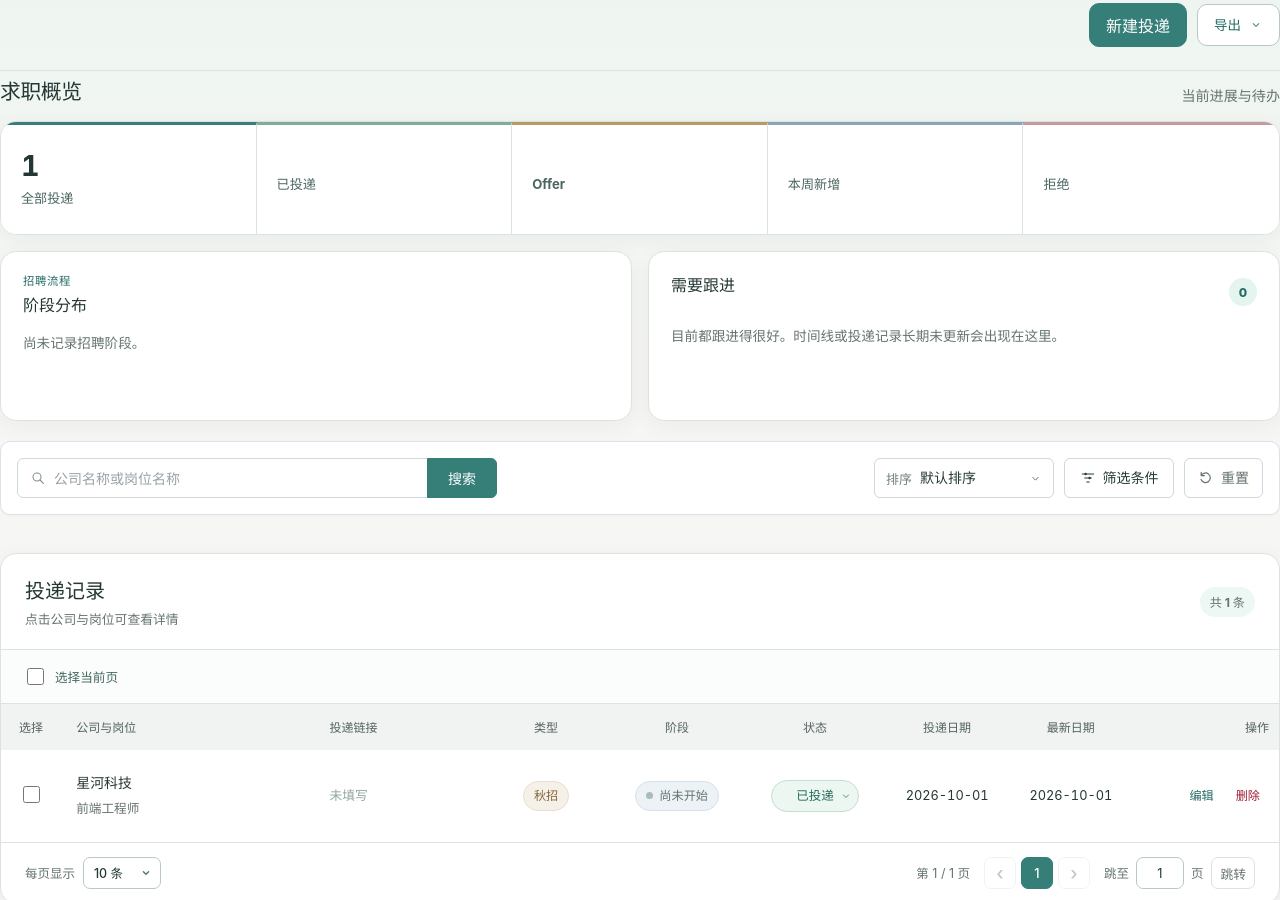
it: selects applications, exports the selected records and deletes them in one request
What coordinates should you click on to do the following:
click the checkbox named "选择当前页投递"
I would click on:
 (36, 676)
Its box is [27,668,44,685].
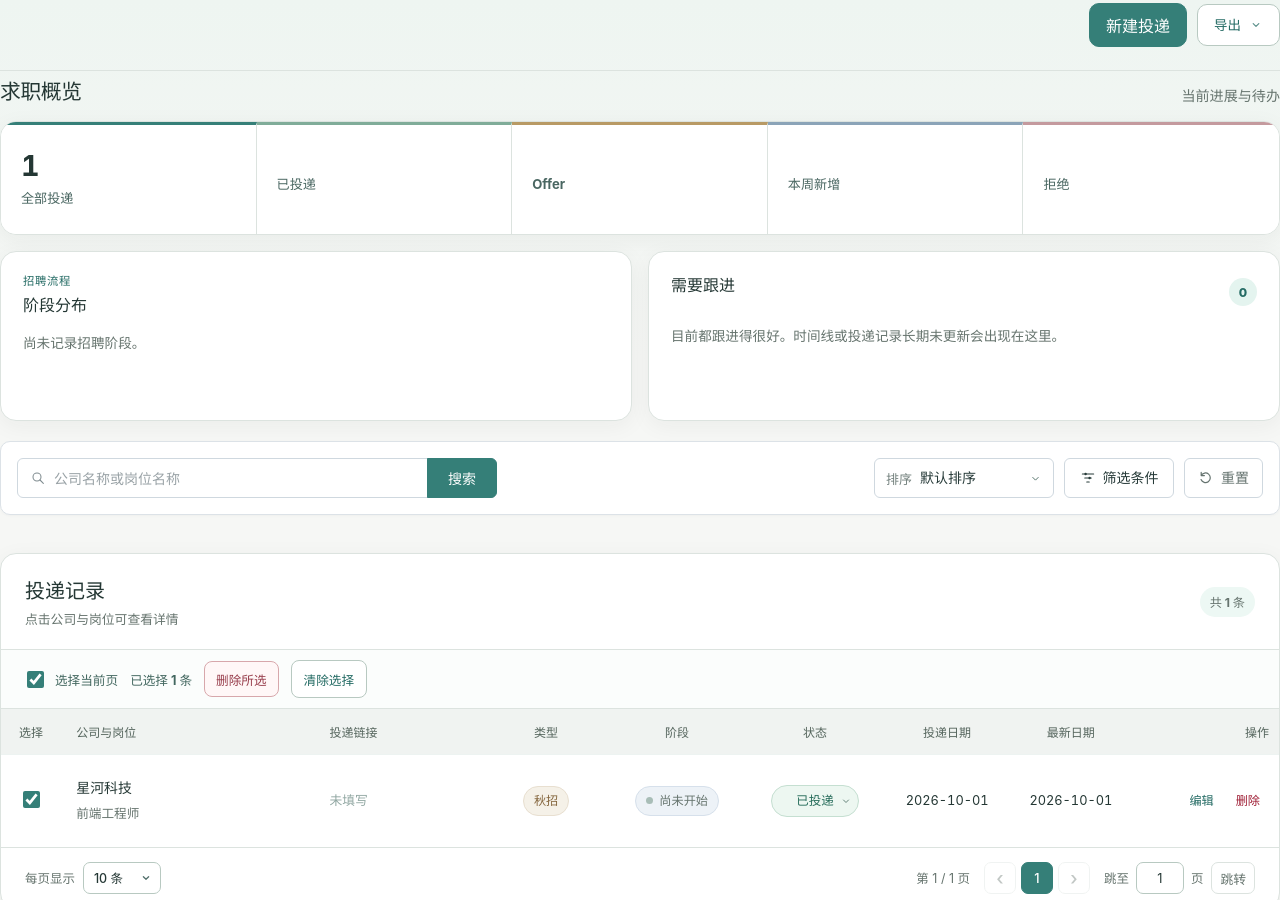
Now the checkbox named "选择 星河科技 前端工程师" is checked, box [23,791,40,808]
What coordinates should you click on to do the following:
click the checkbox named "选择当前页投递"
I would click on:
 (36, 679)
Its box is [27,670,44,688].
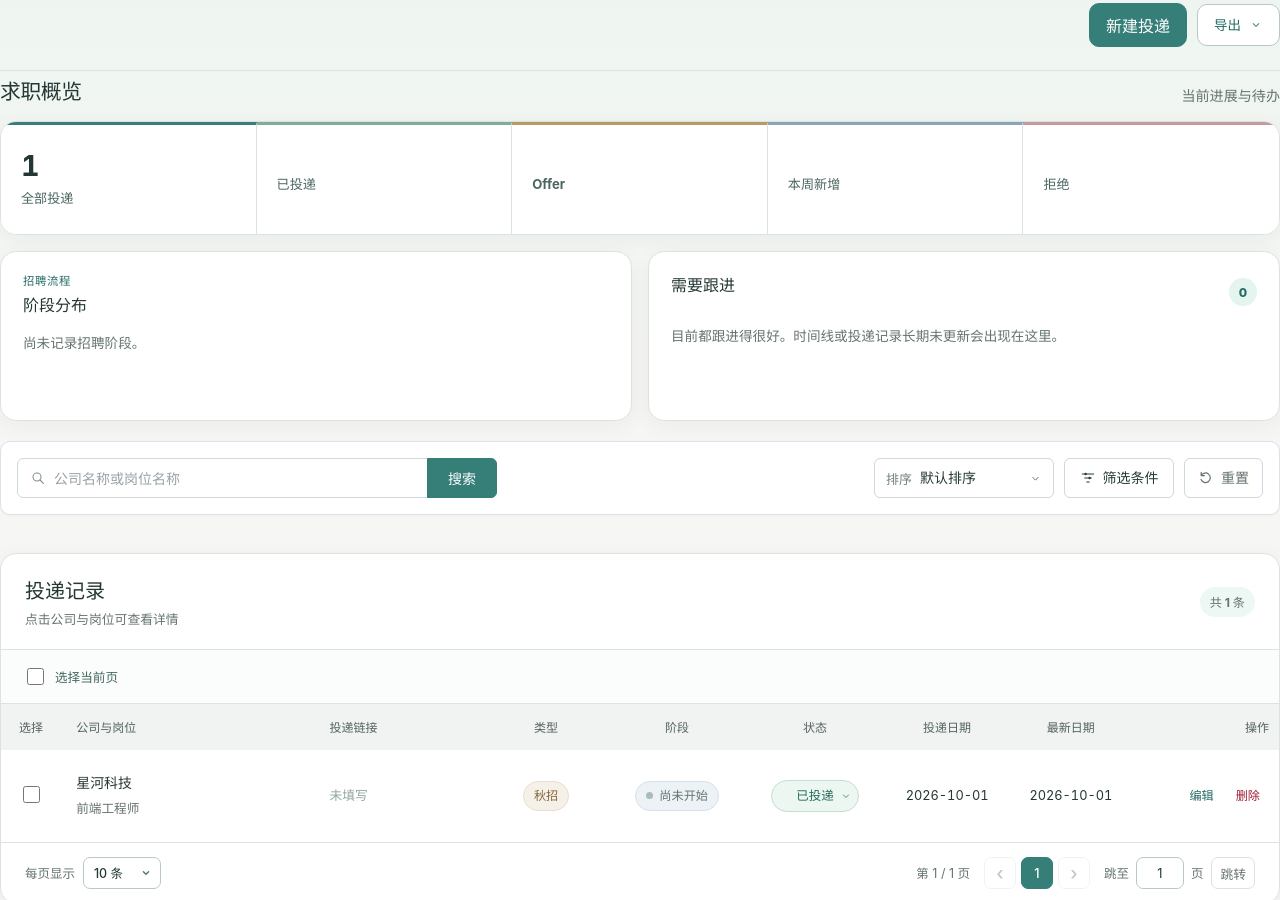
Now the checkbox named "选择 星河科技 前端工程师" is not checked
What coordinates should you click on to do the following:
click the checkbox named "选择 星河科技 前端工程师"
I would click on:
 (32, 795)
Its box is [23,786,40,803].
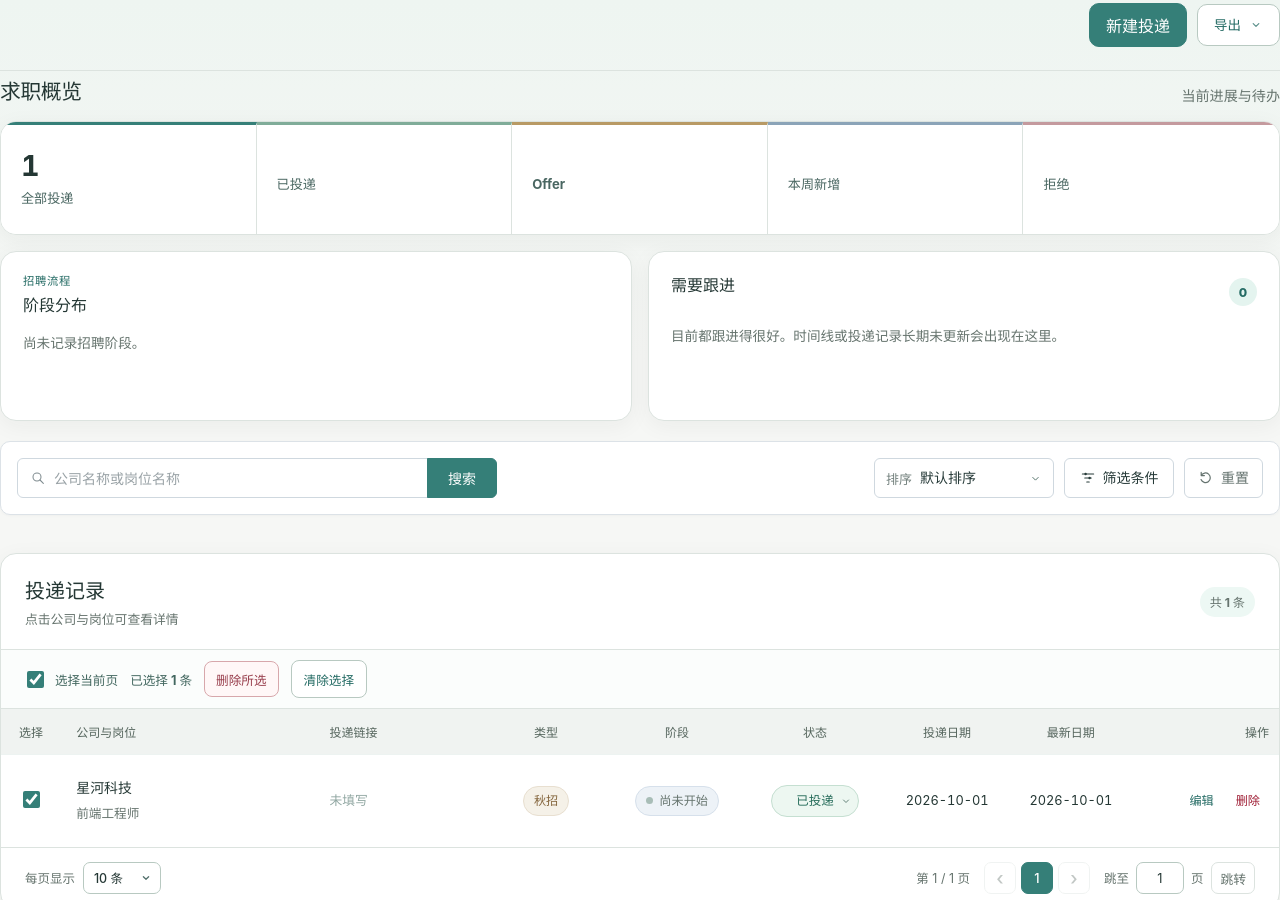
What coordinates should you click on to do the following:
click the button "删除所选"
I would click on:
 (241, 679)
Its box is [204,661,279,697].
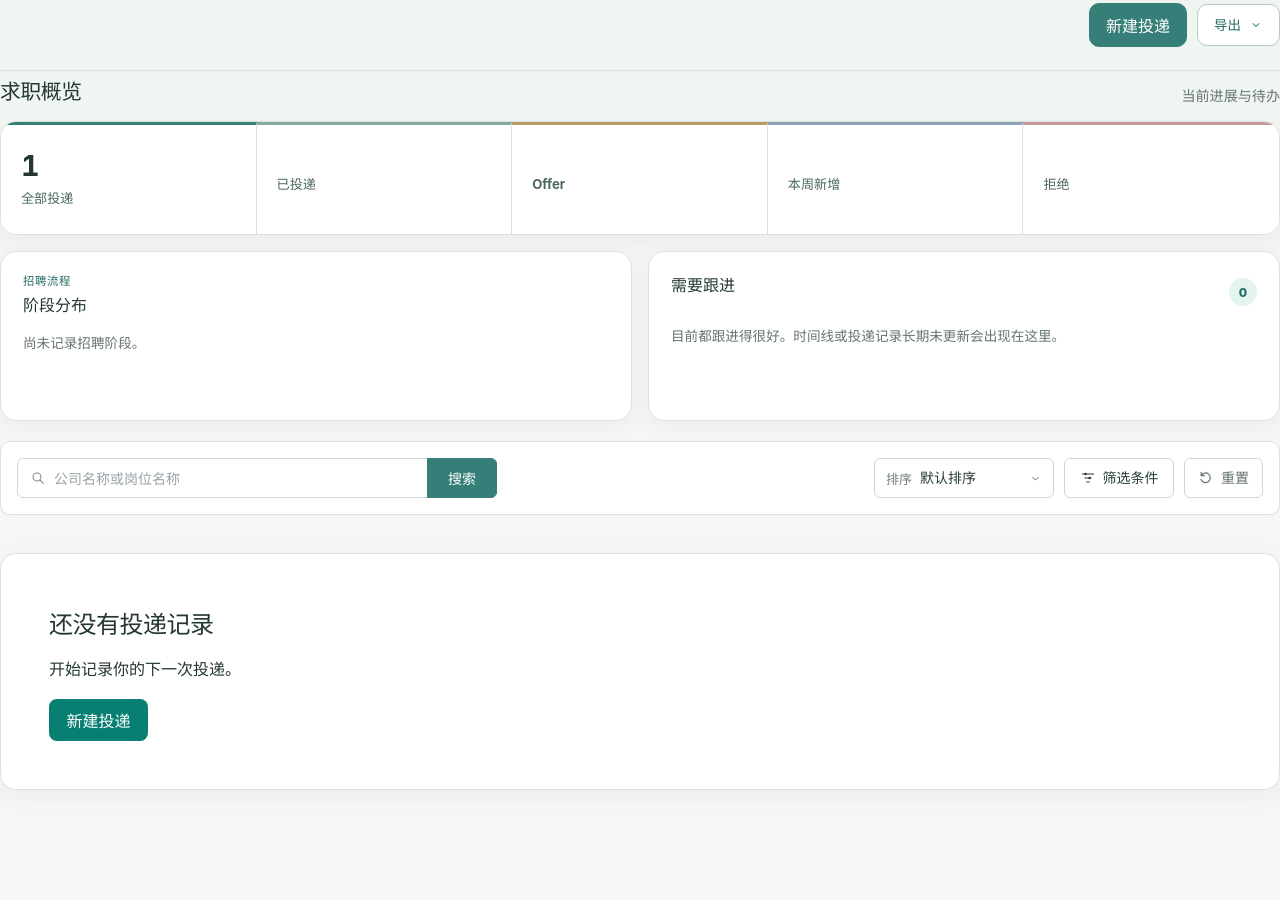
Now the heading "还没有投递记录" is shown, box [49,610,214,639]
